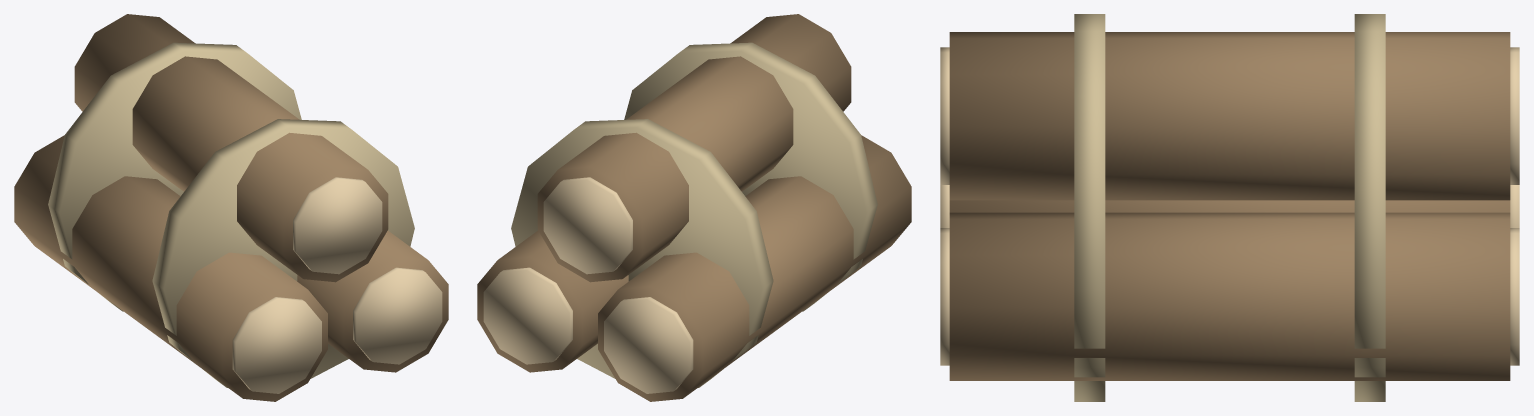
File: madeira.glb
3 views of the same model, side by side, from view 1: azimuth 30°, elevation 25°; view 2: azimuth 150°, elevation 25°; view 3: azimuth 270°, elevation 25° (orthographic). The views are drawn at different scales.
Parts seen in each view (by area): view 1: Cylinder; view 2: Cylinder; view 3: Cylinder.
Boxes of the visible parts, x1,y1,x2,y2 form: Cylinder: [14, 14, 448, 401]; Cylinder: [477, 14, 911, 401]; Cylinder: [940, 14, 1519, 401].
Size of the model in its own units: 0.25 by 0.25 by 0.372.
